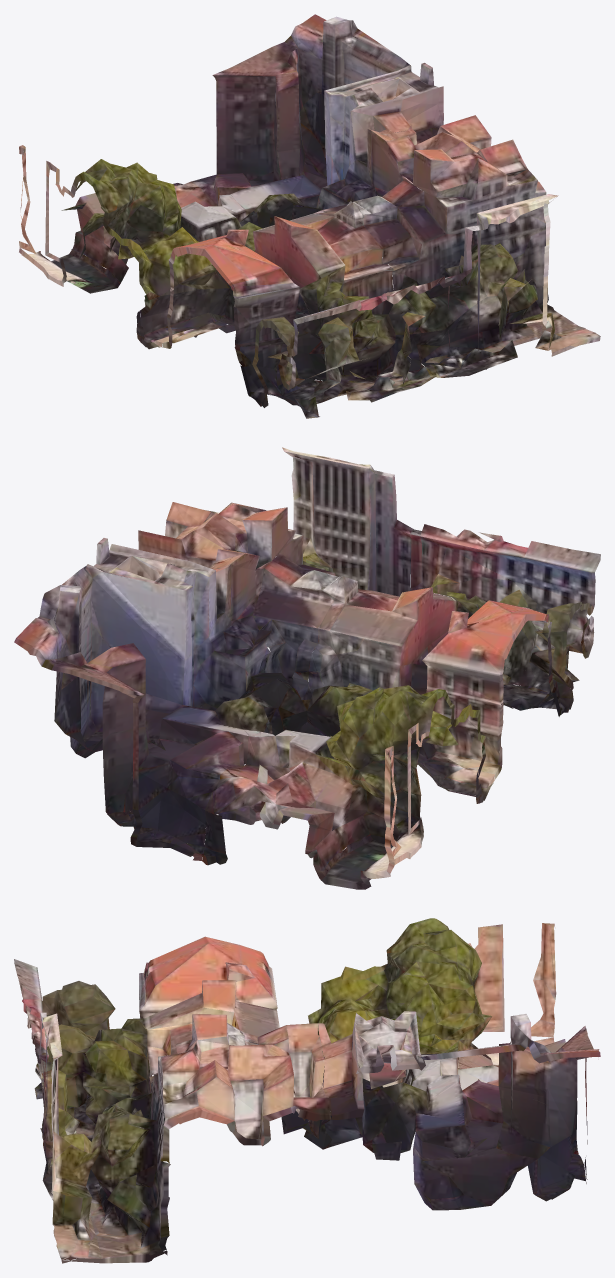
The picture shows the model from 3 angles, top to bottom: view 1: azimuth 30°, elevation 25°; view 2: azimuth 150°, elevation 25°; view 3: azimuth 270°, elevation 25°; orthographic projection. The views are drawn at different scales.
Visible parts, largest first — view 1: Mesh_0; view 2: Mesh_0; view 3: Mesh_0.
Boxes of the visible parts, left/top/right/bottom form: Mesh_0: left=19, top=14, right=600, bottom=418; Mesh_0: left=14, top=447, right=600, bottom=889; Mesh_0: left=14, top=918, right=600, bottom=1263.
Size of the model in its own units: 67.49 by 34.25 by 82.37.
Materials: 1 (1 with a texture image).
